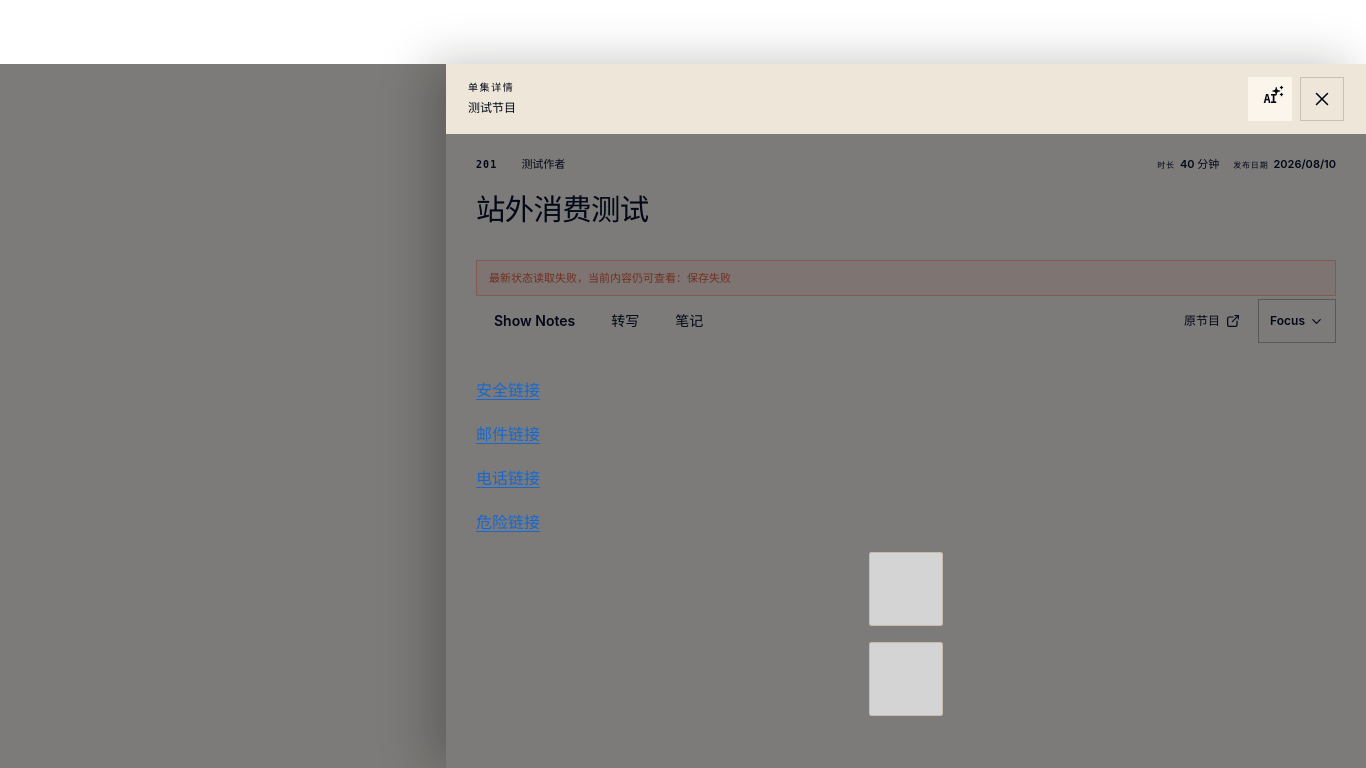
Test case: ConsumptionDetailPanel › keeps other content usable when detail, processing, and metadata regions fail
expect the text "最新状态读取失败，当前内容仍可查看：保存失败" is shown: met, box [489,271,731,285]
expect the link "安全链接" is shown: met, box [476,380,540,400]
Click the tab "笔记".
click(689, 321)  # box [657,296,721,346]
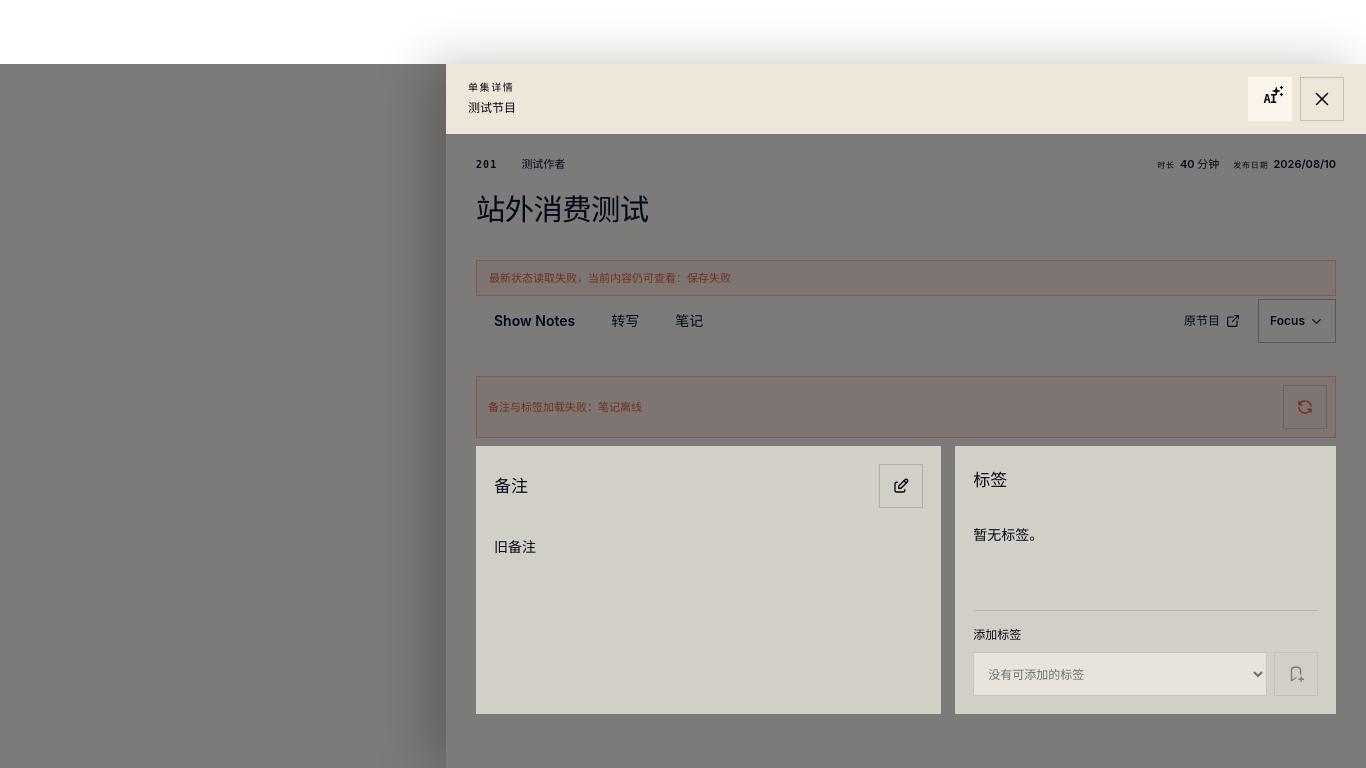
expect the text "备注与标签加载失败：笔记离线" is shown: met, box [488,400,642,414]
Click the tab "Show Notes".
click(535, 321)  # box [476,296,593,346]
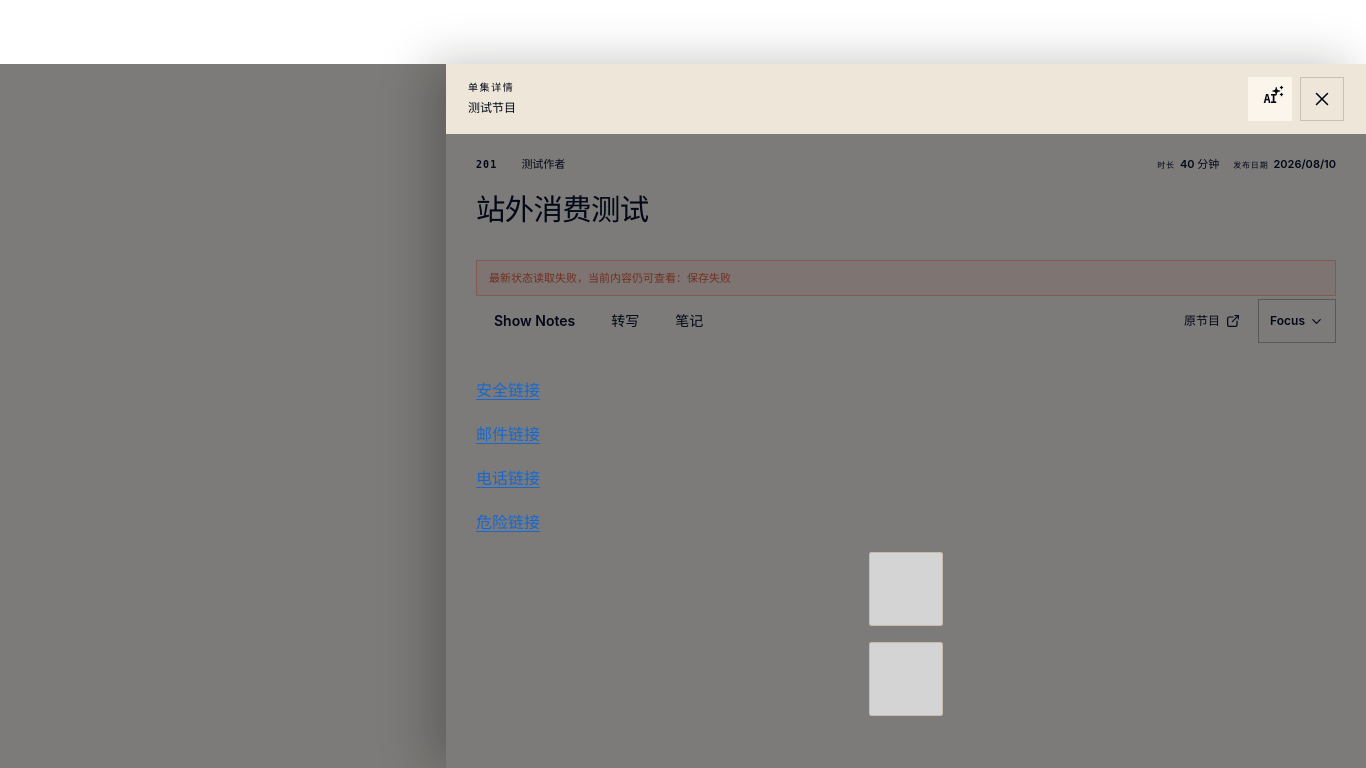
expect the link "安全链接" is shown: met, box [476,380,540,400]
